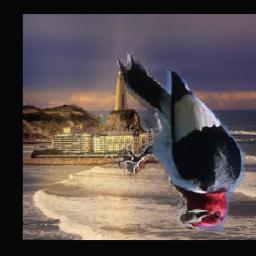Woodpecker: (108, 49, 245, 238)
